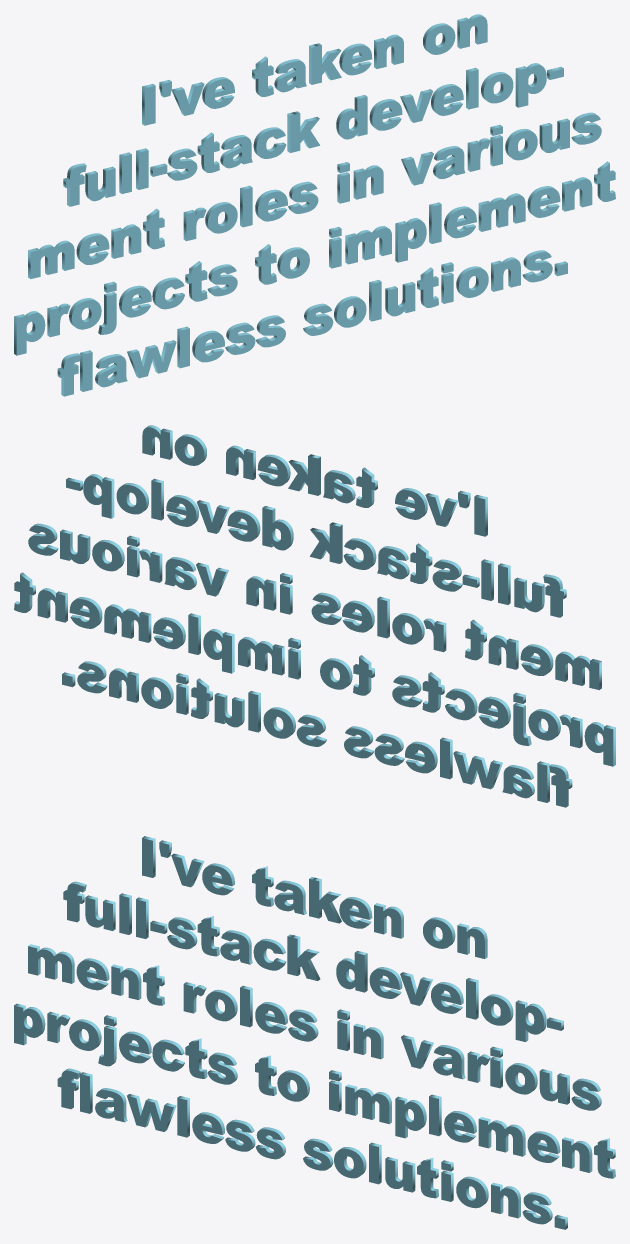
The model's file is desc-n2fullstack-transformed.glb.
The picture shows the model from 3 angles, top to bottom: view 1: azimuth 30°, elevation 25°; view 2: azimuth 150°, elevation 25°; view 3: azimuth 330°, elevation 25°; orthographic projection.
Parts seen in each view (by area): view 1: fullstack; view 2: fullstack; view 3: fullstack.
Part boxes in pixels (x1=…): fullstack: x1=14, y1=14, x2=615, y2=396; fullstack: x1=14, y1=425, x2=615, y2=807; fullstack: x1=14, y1=836, x2=615, y2=1229.
Size of the model in its own units: 0.1285 by 0.0593 by 0.000996.
